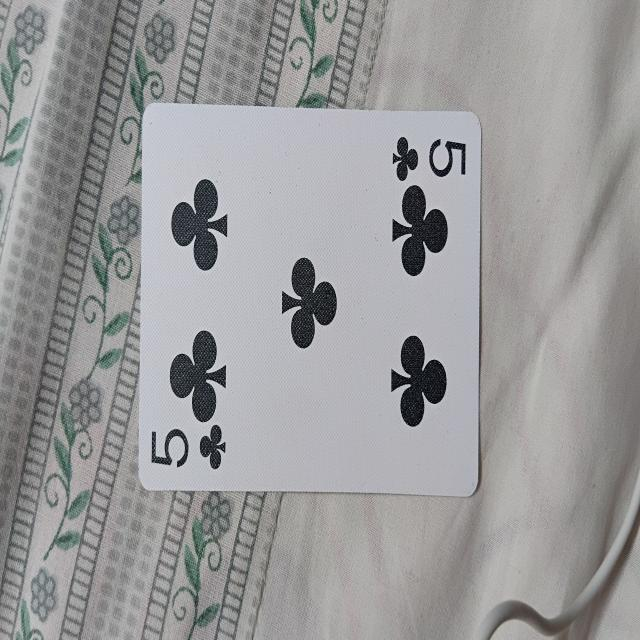5C: (138, 110, 482, 496)
